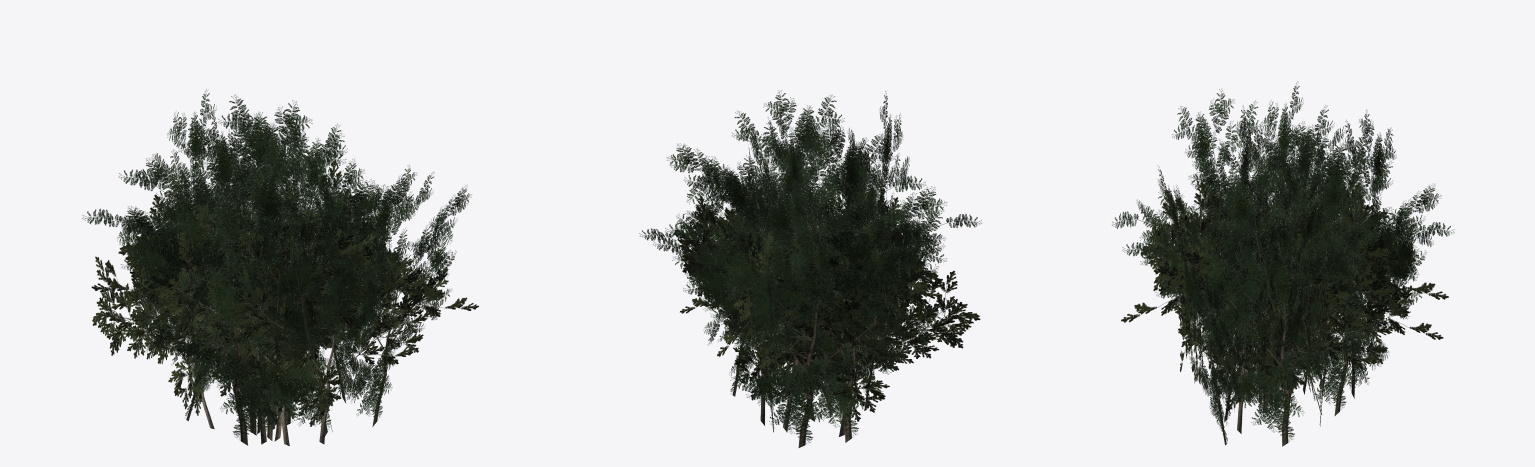
3 renders of one model, left to right at view 1: azimuth 30°, elevation 25°; view 2: azimuth 150°, elevation 25°; view 3: azimuth 270°, elevation 25°, orthographic. The views are drawn at different scales.
Parts seen in each view (by area): view 1: ST_TallBush; view 2: ST_TallBush; view 3: ST_TallBush.
Part boxes in pixels (x1,y1,x2,y2): ST_TallBush: (82,89,478,446); ST_TallBush: (639,90,981,447); ST_TallBush: (1112,81,1454,446).
Bounding box in the file's own units: 15.93 × 10.83 × 13.68.
2 materials, 2 textured.
